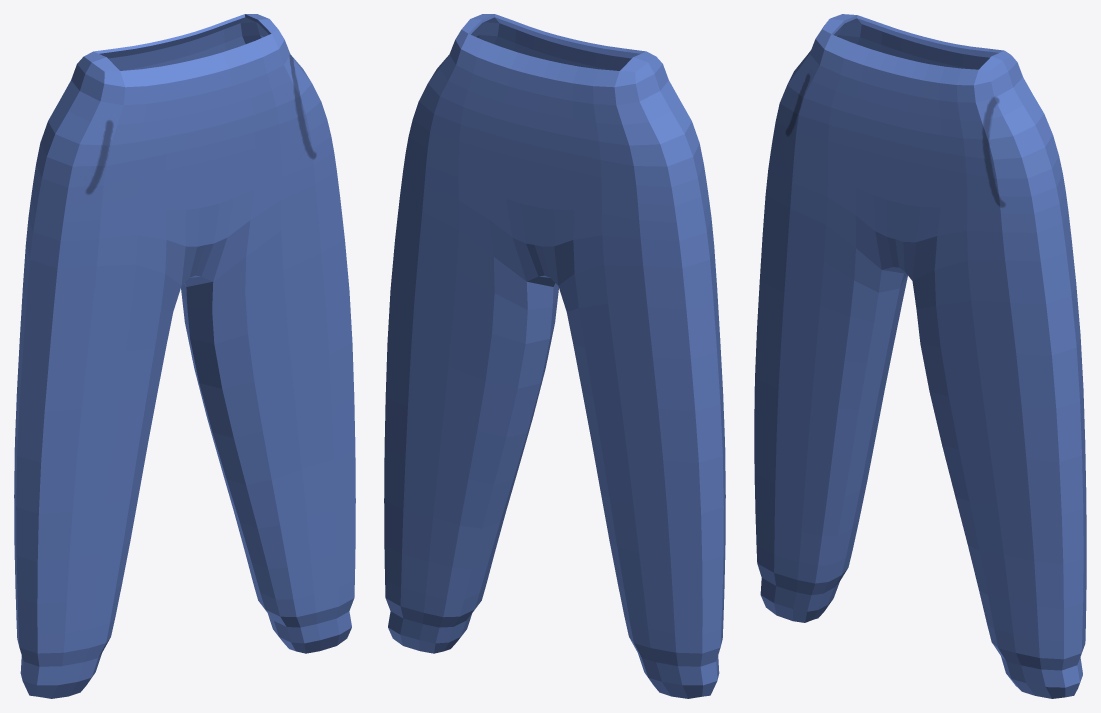
File: Sudadera.fbx
The picture shows the model from 3 angles, left to right: view 1: azimuth 30°, elevation 25°; view 2: azimuth 150°, elevation 25°; view 3: azimuth 330°, elevation 25°; orthographic projection. The views are drawn at different scales.
Parts seen in each view (by area): view 1: Cube; view 2: Cube; view 3: Cube.
Boxes of the visible parts, x1,y1,x2,y2 form: Cube: [14, 14, 355, 698]; Cube: [384, 14, 725, 698]; Cube: [754, 14, 1086, 698].
Bounding box in the file's own units: 236 × 428 × 58.87.
1 material, 1 textured.
